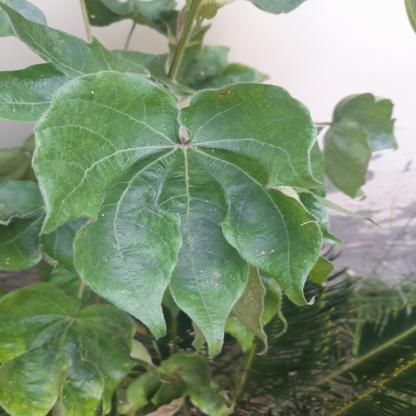curl_stage1: (40, 122, 102, 212), (25, 289, 111, 352), (2, 366, 105, 414), (233, 91, 301, 135), (76, 229, 117, 271), (1, 293, 26, 359), (162, 225, 189, 279)
curl_stage2: (331, 108, 370, 196)
healthy: (127, 120, 242, 210), (65, 88, 165, 127), (252, 211, 307, 257), (256, 147, 316, 187), (181, 282, 233, 325), (11, 77, 61, 103)
